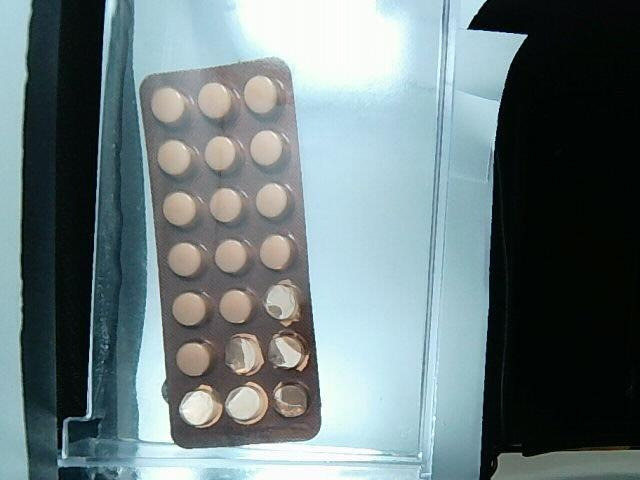Light Front: (137, 58, 324, 451)
No Pill Front: (224, 381, 269, 424), (179, 385, 222, 426), (264, 279, 302, 325), (269, 331, 309, 370), (225, 334, 263, 375), (274, 383, 307, 418)
Pill Front: (243, 75, 286, 115), (150, 86, 192, 126), (198, 83, 240, 122), (204, 135, 244, 173), (158, 140, 199, 176), (250, 130, 288, 168), (209, 188, 249, 224), (163, 191, 203, 227), (214, 239, 254, 274), (168, 243, 209, 277), (255, 183, 293, 219), (171, 293, 211, 326), (219, 289, 256, 323), (260, 235, 295, 270), (176, 343, 212, 376)
